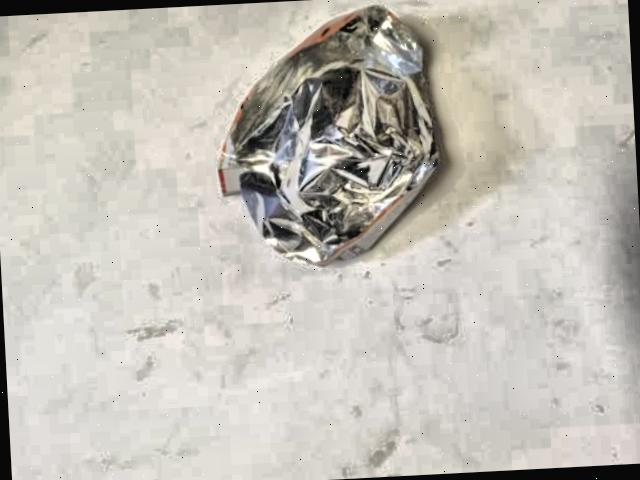Plastic: (187, 0, 473, 273)
